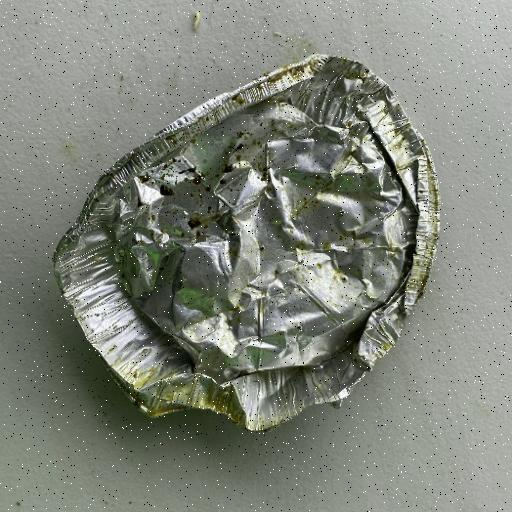Metal: (50, 52, 442, 433)
